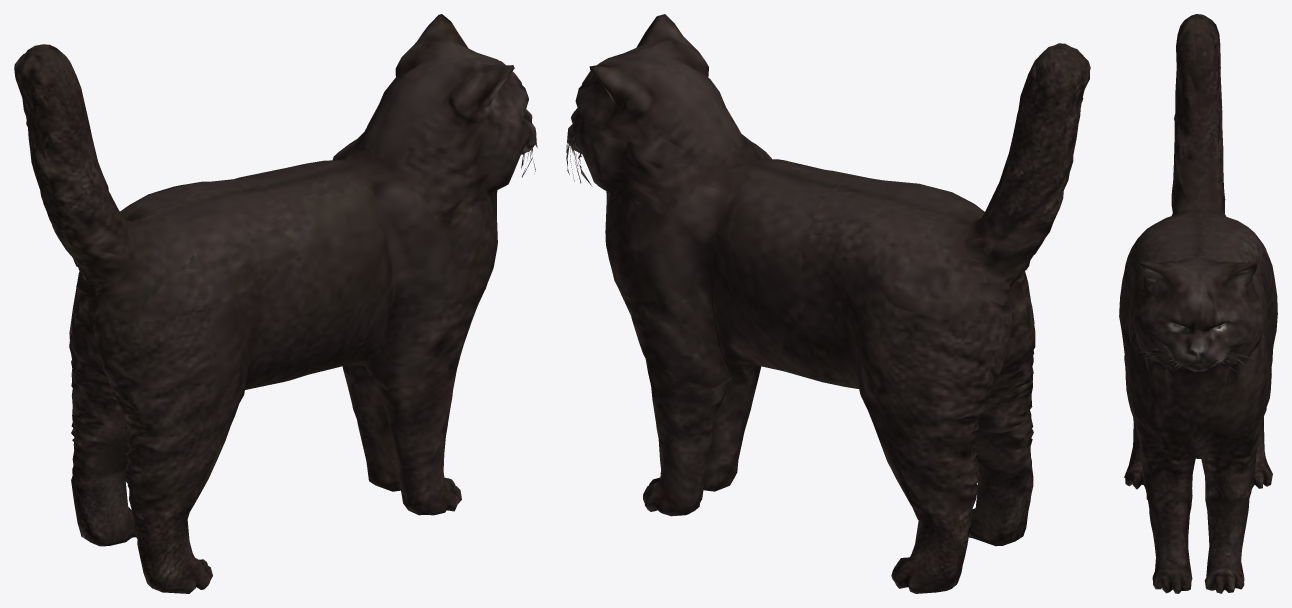
The model's file is SCROLL-lo.glb.
3 views of the same model, side by side, from view 1: azimuth 30°, elevation 25°; view 2: azimuth 150°, elevation 25°; view 3: azimuth 270°, elevation 25° (orthographic). The views are drawn at different scales.
Parts seen in each view (by area): view 1: tripo_node_8795ee2f-9e4d-4005-8f43-bf47d77ad2cb; view 2: tripo_node_8795ee2f-9e4d-4005-8f43-bf47d77ad2cb; view 3: tripo_node_8795ee2f-9e4d-4005-8f43-bf47d77ad2cb.
Part boxes in pixels (<box>): tripo_node_8795ee2f-9e4d-4005-8f43-bf47d77ad2cb: <box>14,14,537,593</box>; tripo_node_8795ee2f-9e4d-4005-8f43-bf47d77ad2cb: <box>566,14,1090,593</box>; tripo_node_8795ee2f-9e4d-4005-8f43-bf47d77ad2cb: <box>1119,14,1277,593</box>.
Size of the model in its own units: 0.9972 by 0.999 by 0.3379.
Materials: 1 (1 with a texture image).
